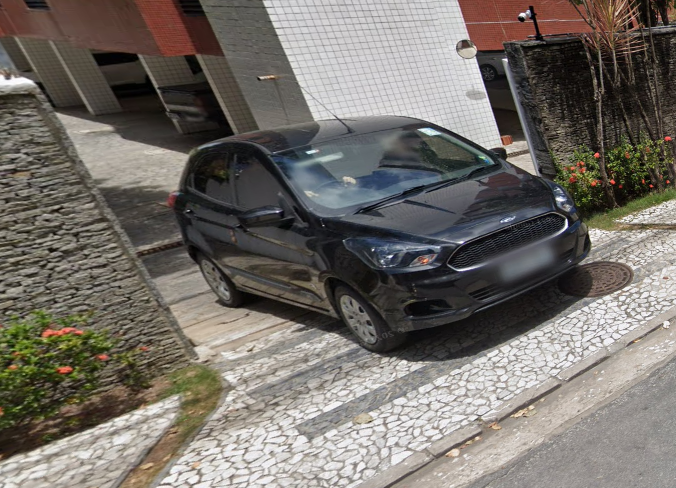car: (162, 84, 595, 359)
